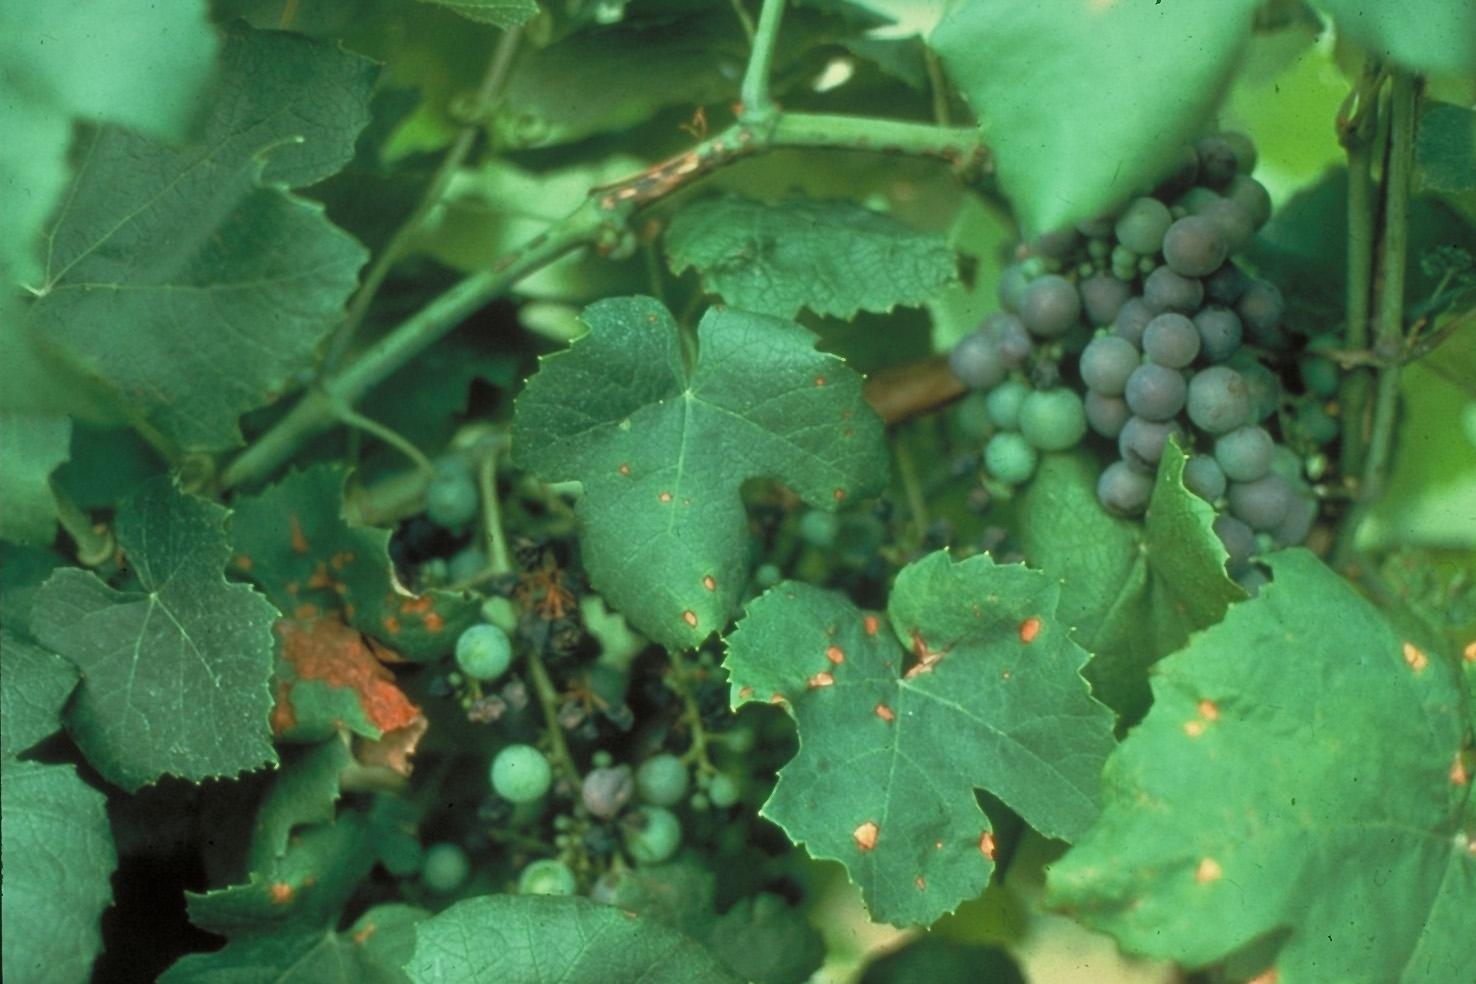grape leaf: (1032, 555, 1466, 984), (714, 549, 1112, 927), (505, 278, 893, 646), (221, 461, 465, 780)
